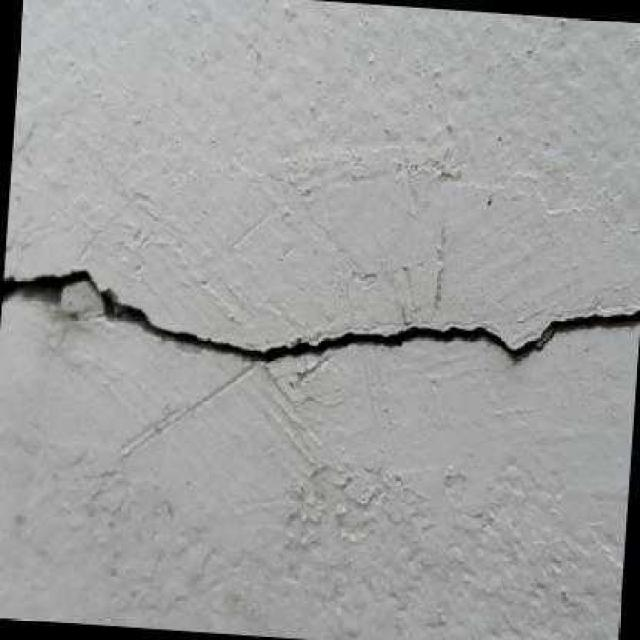D00: (0, 269, 640, 364)
